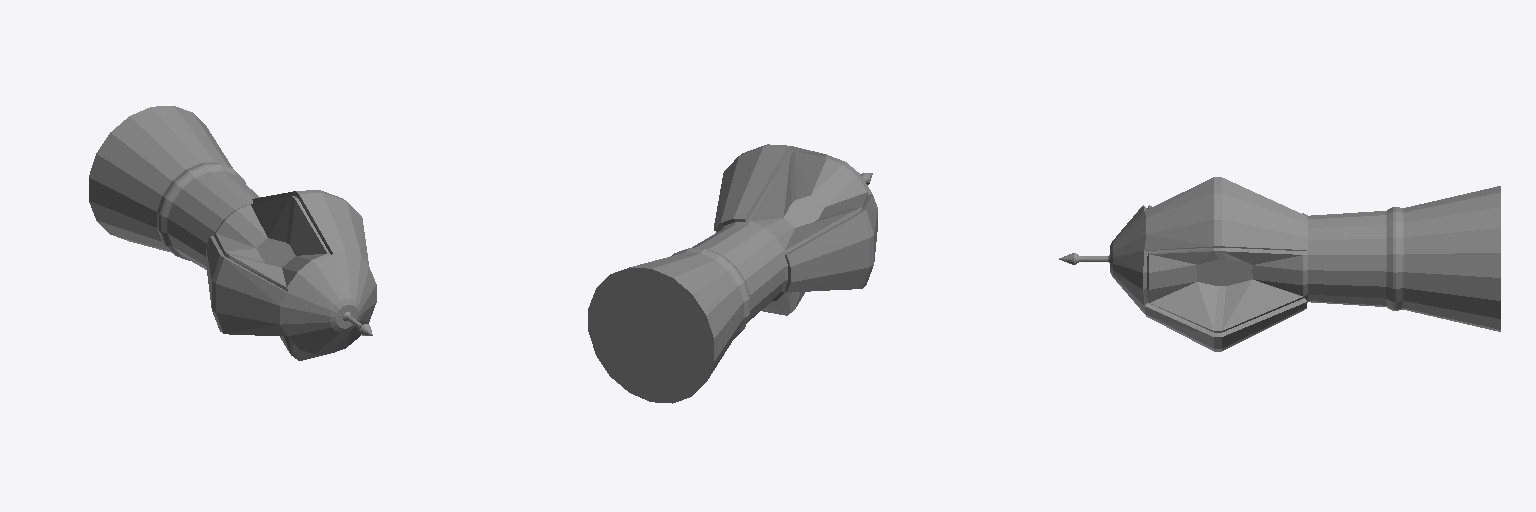
File: Tower_obj.obj
3 views of the same model, side by side, from view 1: azimuth 30°, elevation 25°; view 2: azimuth 150°, elevation 25°; view 3: azimuth 270°, elevation 25° (orthographic).
Visible parts, largest first — view 1: Cylinder01; view 2: Cylinder01; view 3: Cylinder01.
Part boxes in pixels (x1,y1,x2,y2): Cylinder01: (89,106,376,360); Cylinder01: (588,144,877,403); Cylinder01: (1059,177,1500,351).
Bounding box in the file's own units: 43.86 × 47.8 × 115.